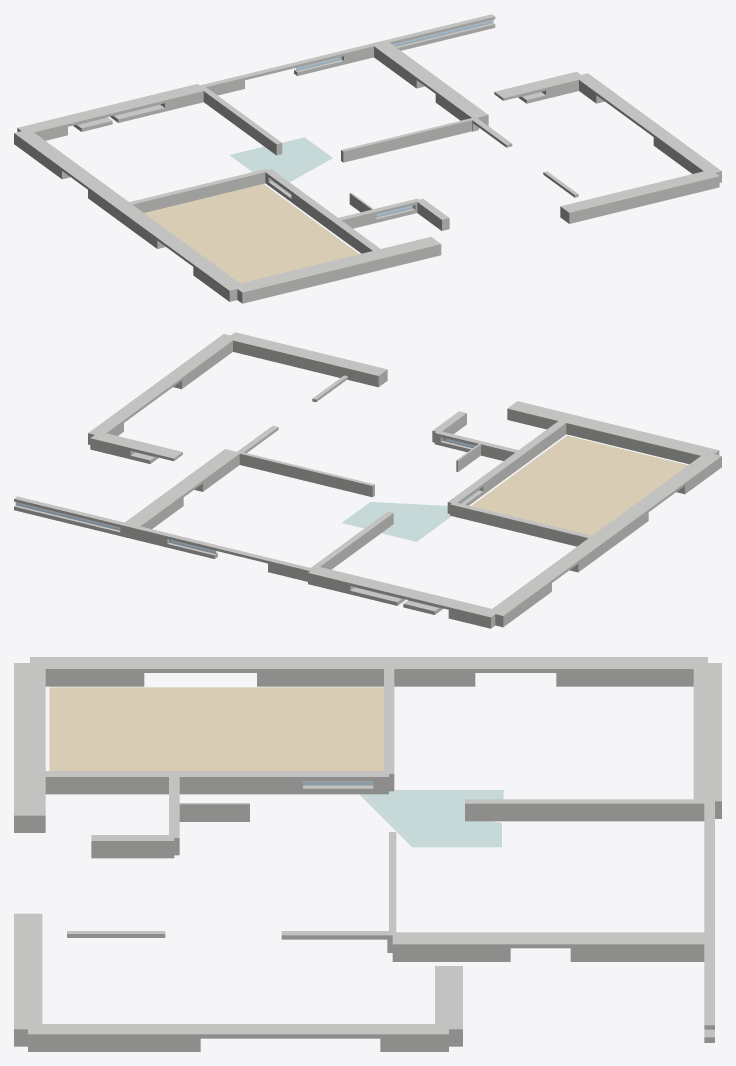
Rendered from Screenshot 2026-10-06 152955_3d.glb.
3 renders of one model, top to bottom at view 1: azimuth 30°, elevation 25°; view 2: azimuth 150°, elevation 25°; view 3: azimuth 270°, elevation 25°, orthographic. The views are drawn at different scales.
Parts seen in each view (by area): view 1: floor_R2_living_60, wall_W11_28, wall_W9_26, floor_R1_bathroom_59, wall_W6_21, wall_W5_20, wall_W16_40, wall_W12_29, wall_W22_51, wall_W21_46, wall_W10_27, wall_W13_32 (+22 smaller); view 2: floor_R2_living_60, wall_W11_28, wall_W9_26, floor_R1_bathroom_59, wall_W6_21, wall_W5_20, wall_W22_51, wall_W12_29, wall_W16_40, wall_W13_32, wall_W21_46, wall_W10_27 (+20 smaller); view 3: floor_R2_living_60, floor_R1_bathroom_59, wall_W16_40, wall_W22_51, wall_W12_29, wall_W21_46, wall_W13_32, wall_W21_48, wall_W11_28, wall_W9_26, wall_W13_34, wall_W15_39 (+26 smaller).
Boxes of the visible parts, bbox=[...] form: floor_R2_living_60: bbox=[144, 184, 359, 283]; wall_W11_28: bbox=[560, 169, 719, 223]; wall_W9_26: bbox=[232, 250, 386, 303]; floor_R1_bathroom_59: bbox=[230, 137, 332, 182]; wall_W6_21: bbox=[122, 169, 268, 212]; wall_W5_20: bbox=[341, 118, 474, 162]; wall_W16_40: bbox=[203, 86, 282, 155]; wall_W12_29: bbox=[14, 129, 77, 179]; wall_W22_51: bbox=[653, 131, 721, 182]; wall_W21_46: bbox=[373, 42, 431, 88]; wall_W10_27: bbox=[377, 237, 441, 268]; wall_W13_32: bbox=[115, 204, 172, 248]; floor_R2_living_60: bbox=[471, 435, 687, 535]; wall_W11_28: bbox=[227, 332, 387, 387]; wall_W9_26: bbox=[563, 414, 719, 464]; floor_R1_bathroom_59: bbox=[342, 502, 450, 541]; wall_W6_21: bbox=[450, 502, 598, 546]; wall_W5_20: bbox=[239, 452, 374, 497]; wall_W22_51: bbox=[168, 334, 235, 389]; wall_W12_29: bbox=[492, 576, 551, 627]; wall_W16_40: bbox=[311, 511, 393, 569]; wall_W13_32: bbox=[592, 506, 648, 551]; wall_W21_46: bbox=[123, 491, 183, 528]; wall_W10_27: bbox=[507, 401, 572, 429]; floor_R2_living_60: bbox=[49, 687, 383, 782]; floor_R1_bathroom_59: bbox=[359, 790, 503, 847]; wall_W16_40: bbox=[465, 799, 704, 821]; wall_W22_51: bbox=[28, 1024, 200, 1051]; wall_W12_29: bbox=[556, 657, 707, 686]; wall_W21_46: bbox=[570, 932, 709, 961]; wall_W13_32: bbox=[257, 657, 388, 686]; wall_W21_48: bbox=[392, 932, 510, 961]; wall_W11_28: bbox=[14, 913, 42, 1046]; wall_W9_26: bbox=[14, 663, 45, 773]; wall_W13_34: bbox=[30, 657, 144, 686]; wall_W15_39: bbox=[30, 771, 174, 794].
Size of the model in its own units: 127 by 2.75 by 100.
